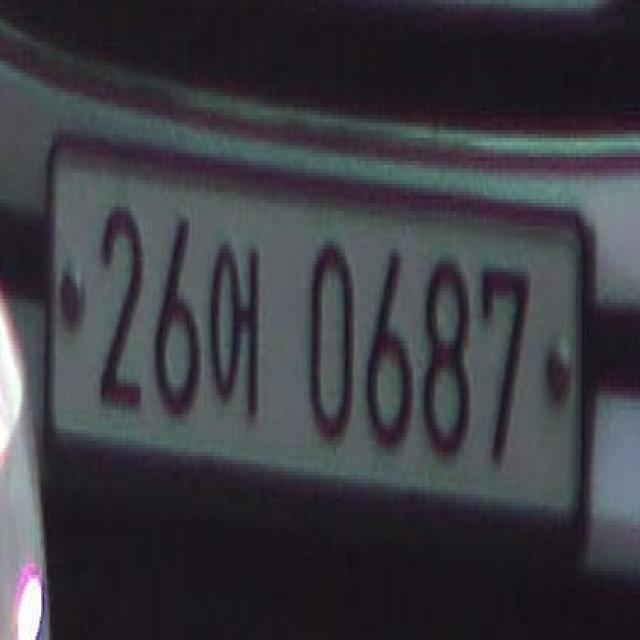plat: (43, 131, 592, 535)
